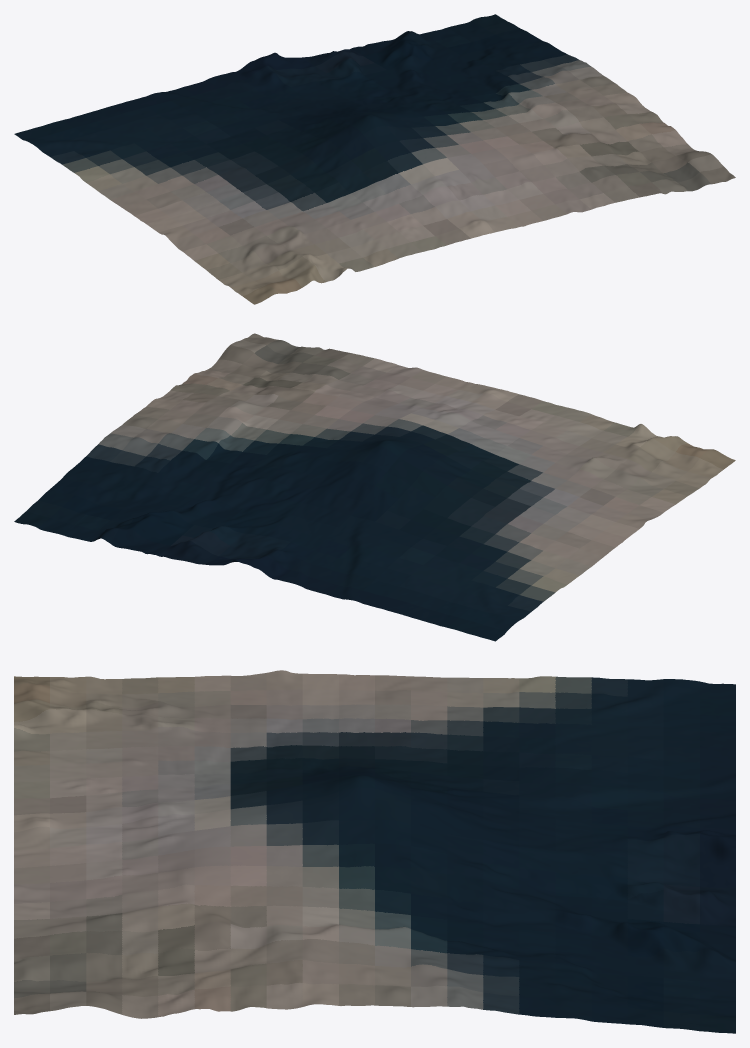
The model's file is villarica.gltf.
3 views of the same model, one above another, from view 1: azimuth 30°, elevation 25°; view 2: azimuth 150°, elevation 25°; view 3: azimuth 270°, elevation 25° (orthographic). The views are drawn at different scales.
Parts seen in each view (by area): view 1: TerrainNode; view 2: TerrainNode; view 3: TerrainNode.
Part boxes in pixels (left/top/right/bottom): TerrainNode: left=14, top=14, right=735, bottom=304; TerrainNode: left=14, top=333, right=735, bottom=641; TerrainNode: left=14, top=670, right=735, bottom=1033.
Size of the model in its own units: 8.3 by 0.852 by 7.18.
Materials: 1 (1 with a texture image).
